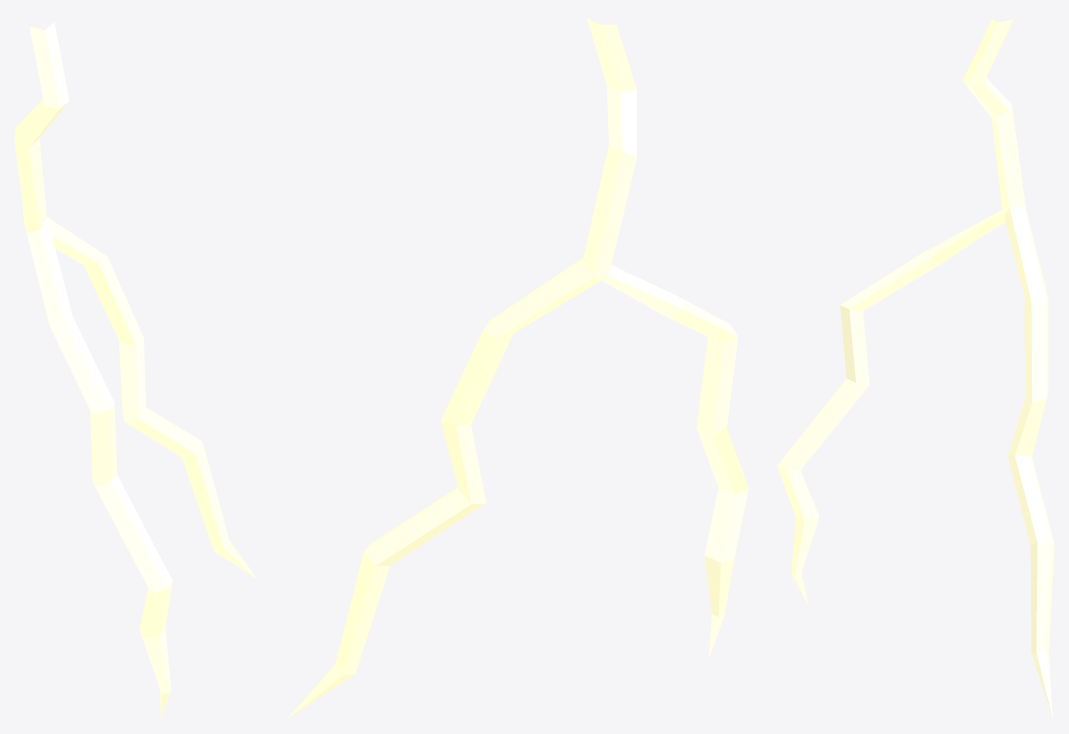
3 views of the same model, side by side, from view 1: azimuth 30°, elevation 25°; view 2: azimuth 150°, elevation 25°; view 3: azimuth 270°, elevation 25° (orthographic). The views are drawn at different scales.
Parts seen in each view (by area): view 1: lightning_bolt.002, lightning_bolt.003; view 2: lightning_bolt.002, lightning_bolt.003; view 3: lightning_bolt.002, lightning_bolt.003.
Part boxes in pixels (<box>): lightning_bolt.002: <box>14,22,256,578</box>; lightning_bolt.003: <box>27,217,172,719</box>; lightning_bolt.002: <box>286,18,636,719</box>; lightning_bolt.003: <box>595,265,748,657</box>; lightning_bolt.002: <box>962,15,1054,718</box>; lightning_bolt.003: <box>777,207,1009,605</box>.
Bounding box in the file's own units: 0.8056 × 1.79 × 0.7583.
